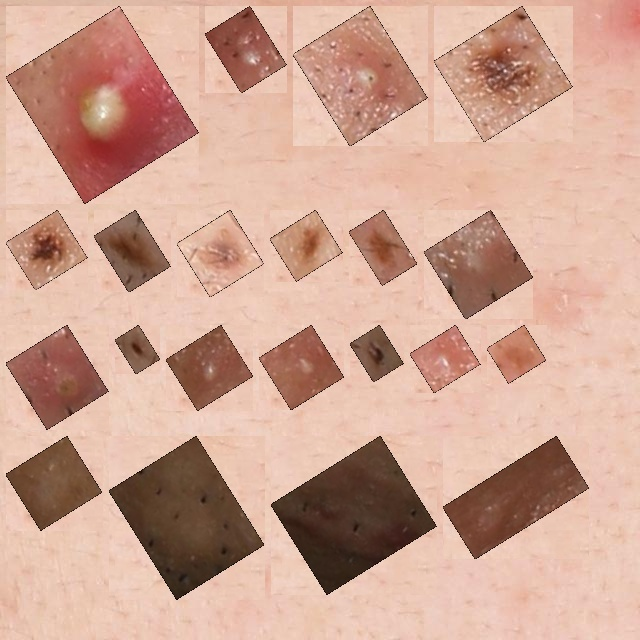hypertrophic_scar: (282, 447, 426, 583), (120, 447, 253, 588), (454, 447, 578, 548), (17, 447, 91, 519)
nevus: (445, 17, 562, 131), (188, 221, 253, 286), (17, 221, 76, 279), (105, 221, 160, 281), (281, 221, 331, 270), (360, 221, 406, 274), (498, 336, 535, 372), (361, 336, 393, 371), (126, 336, 149, 363)
pustule: (17, 17, 188, 192), (304, 17, 416, 135), (435, 221, 522, 308), (17, 336, 97, 418), (177, 336, 242, 399), (270, 336, 333, 399), (216, 17, 275, 82), (421, 336, 469, 382)
